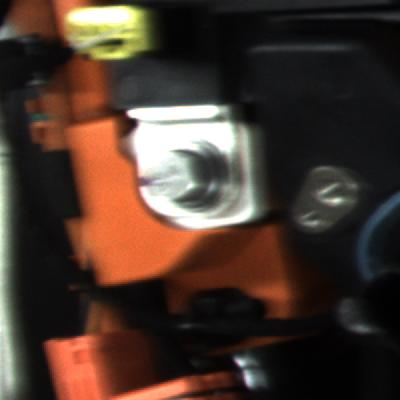nut_b: (147, 139, 247, 218)
